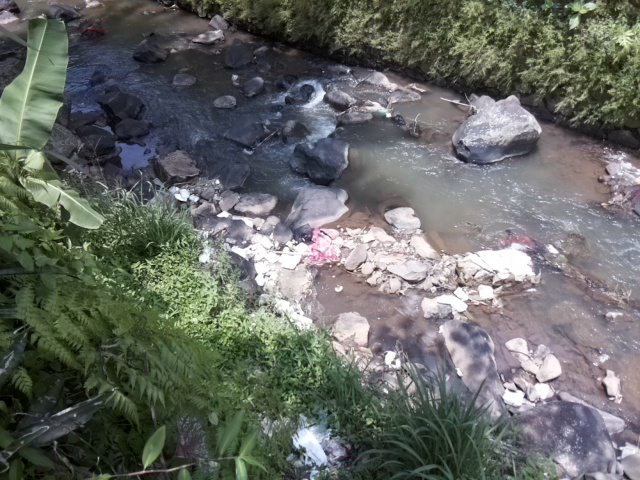Sampah_Plastik: (307, 226, 342, 268), (292, 223, 320, 244)
Sampah_Styrofoam: (253, 237, 302, 271)
